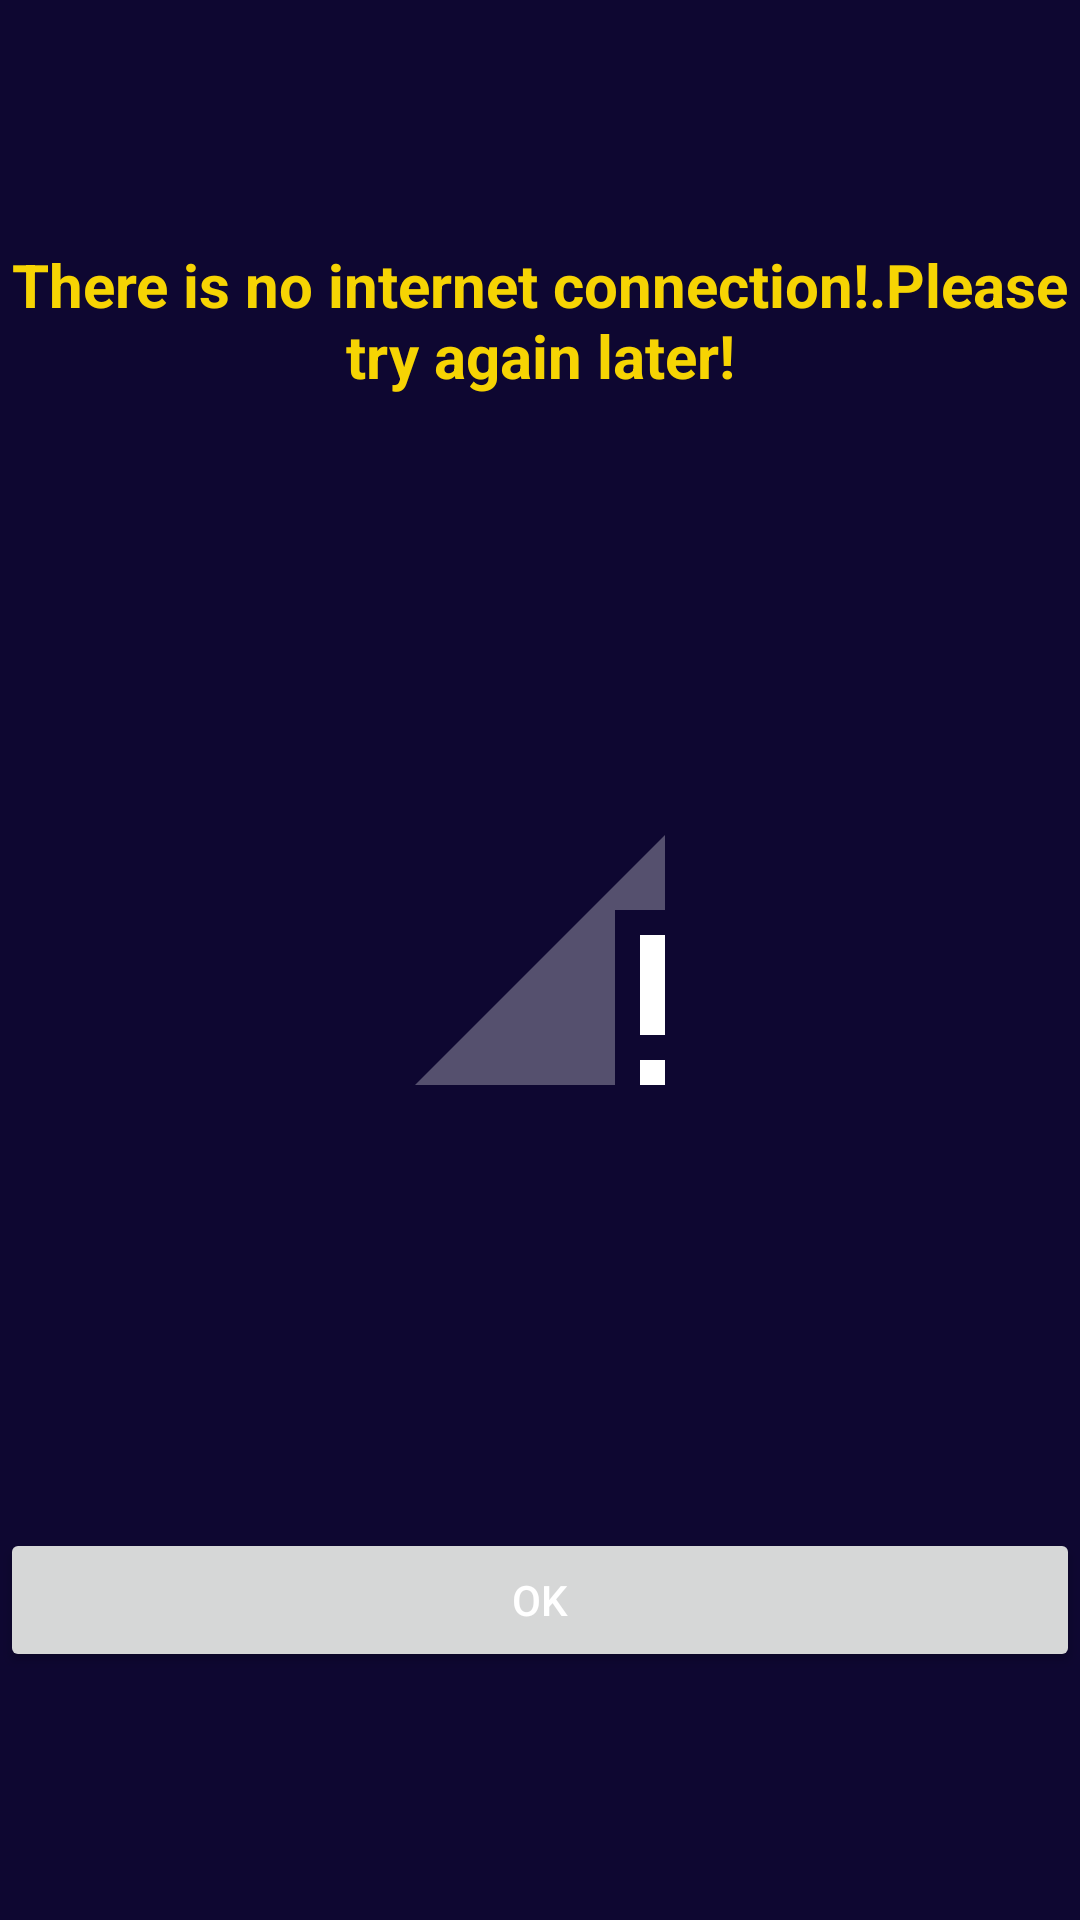

Point at icon controls on the screen. Image size 1080 × 1920, points as [x,y].
no signal: [540,960]
